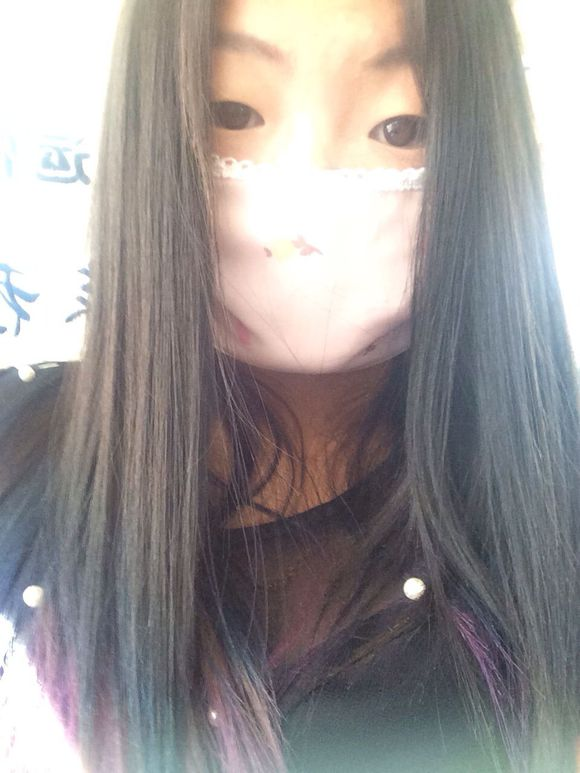face_mask: (188, 0, 448, 367)
